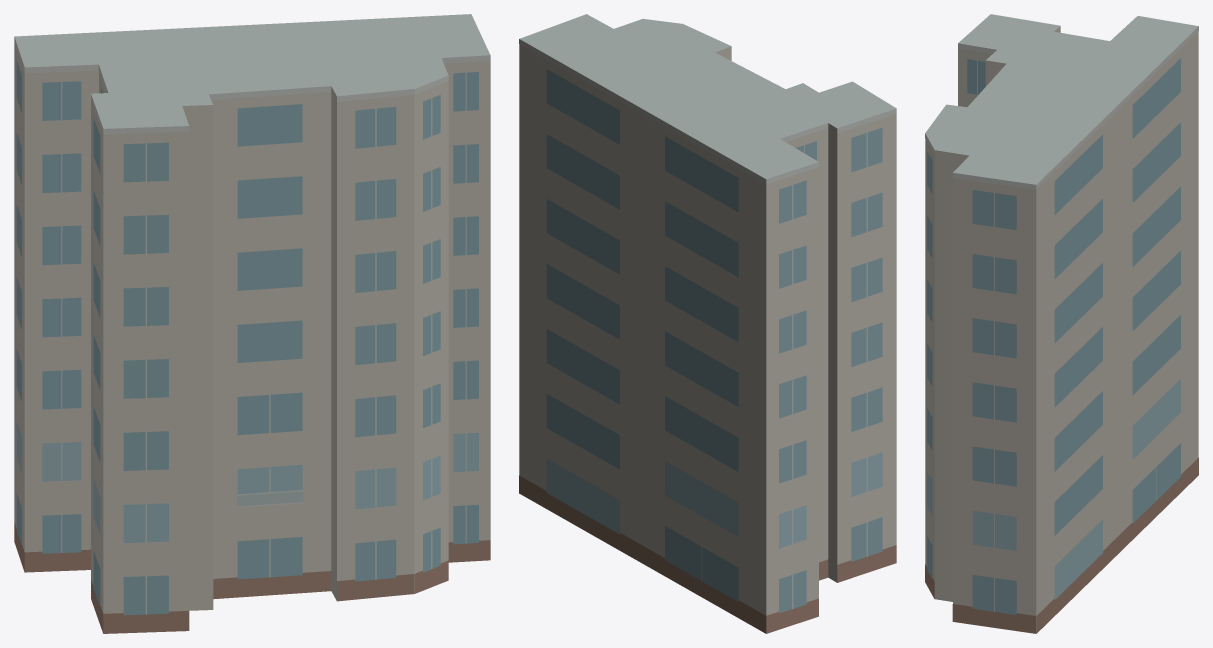
The model's file is survey-upis-32970534.glb.
3 views of the same model, side by side, from view 1: azimuth 30°, elevation 25°; view 2: azimuth 150°, elevation 25°; view 3: azimuth 270°, elevation 25° (orthographic). The views are drawn at different scales.
Parts seen in each view (by area): view 1: survey-upis-32970534.tmp; view 2: survey-upis-32970534.tmp; view 3: survey-upis-32970534.tmp.
Boxes of the visible parts, <box> form: survey-upis-32970534.tmp: <box>14,14,490,633</box>; survey-upis-32970534.tmp: <box>519,14,896,633</box>; survey-upis-32970534.tmp: <box>925,14,1198,633</box>.
Size of the model in its own units: 17.43 by 21.35 by 11.8.
